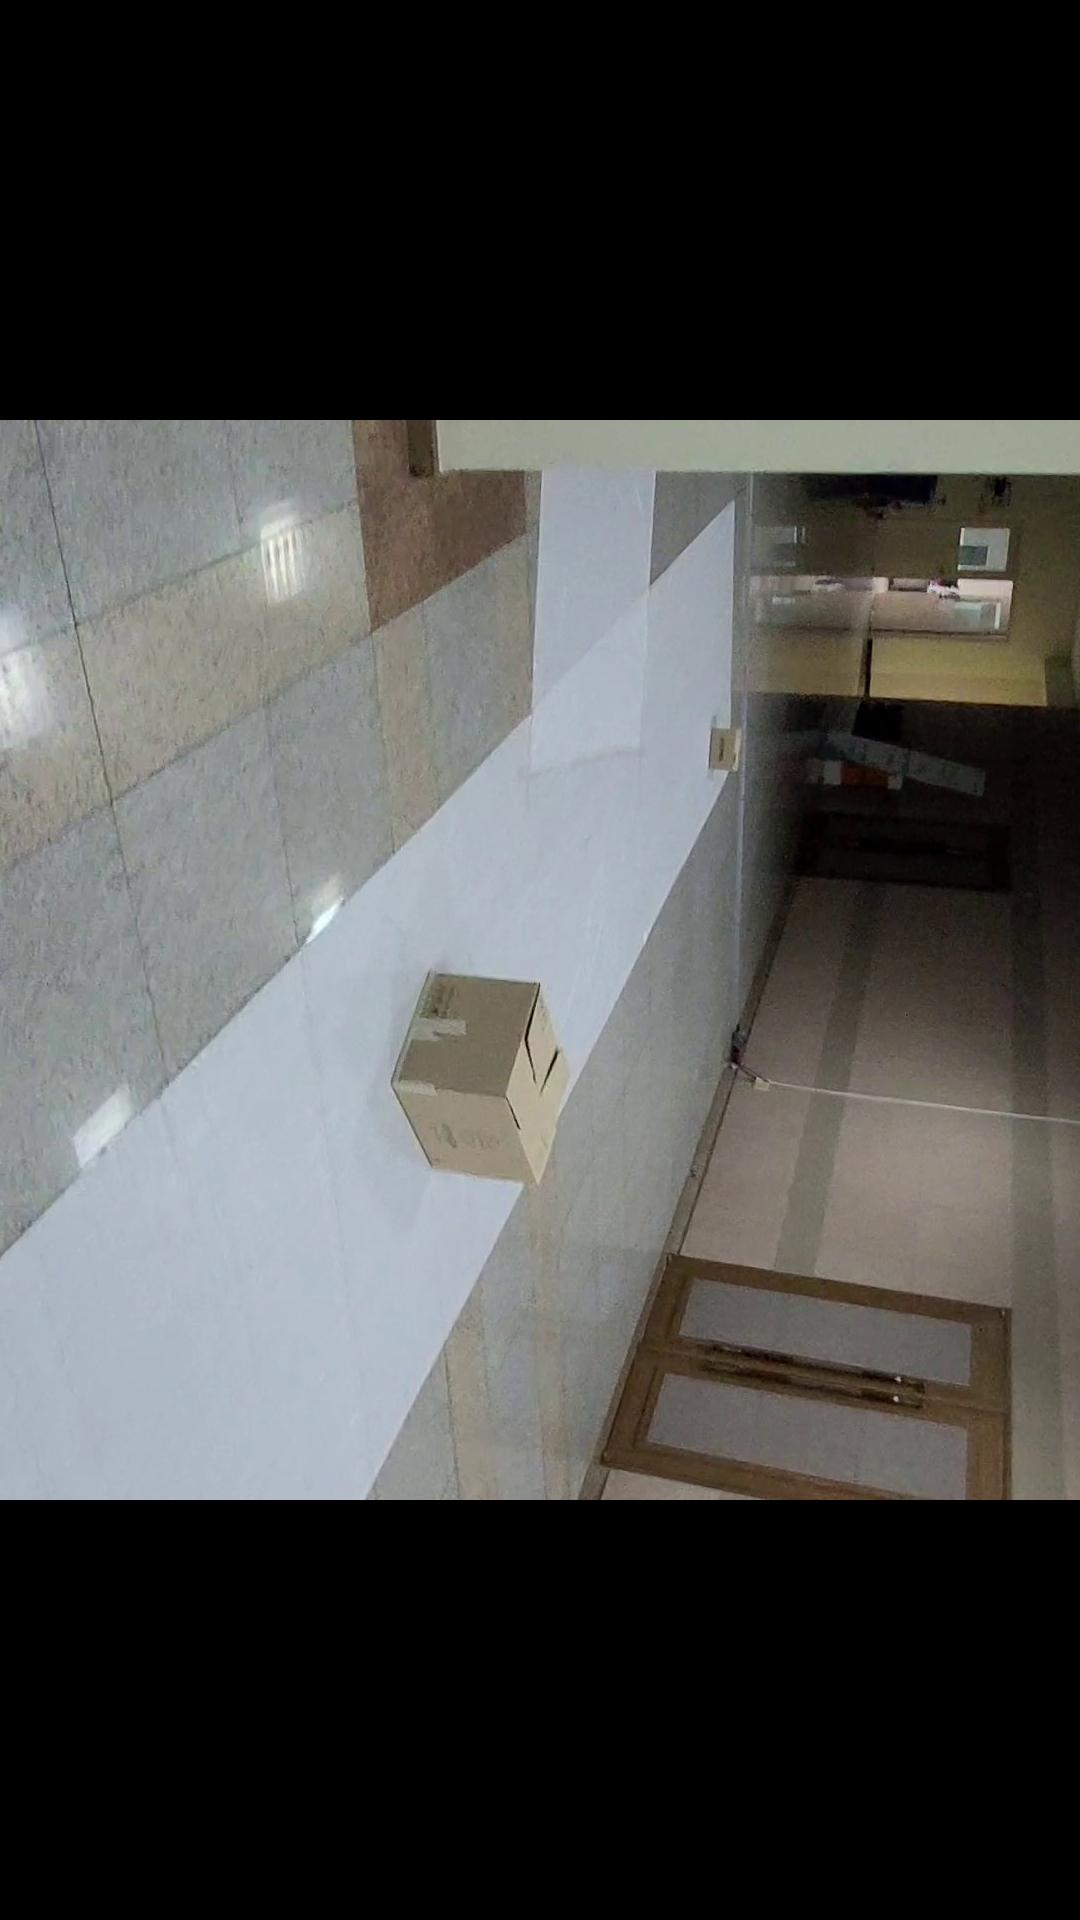Box: (380, 942, 587, 1215), (687, 723, 762, 790)
